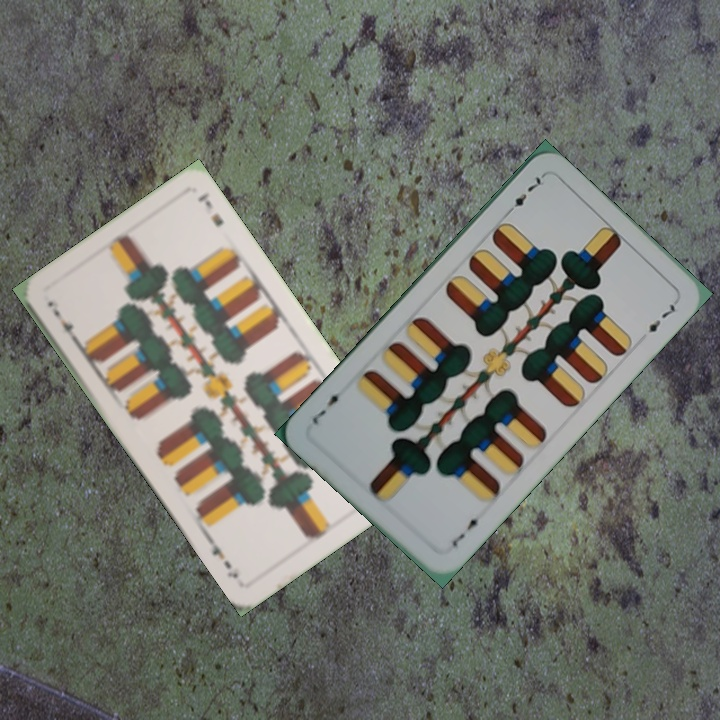E7: (501, 171, 547, 218), (447, 511, 486, 550), (48, 305, 82, 347)
